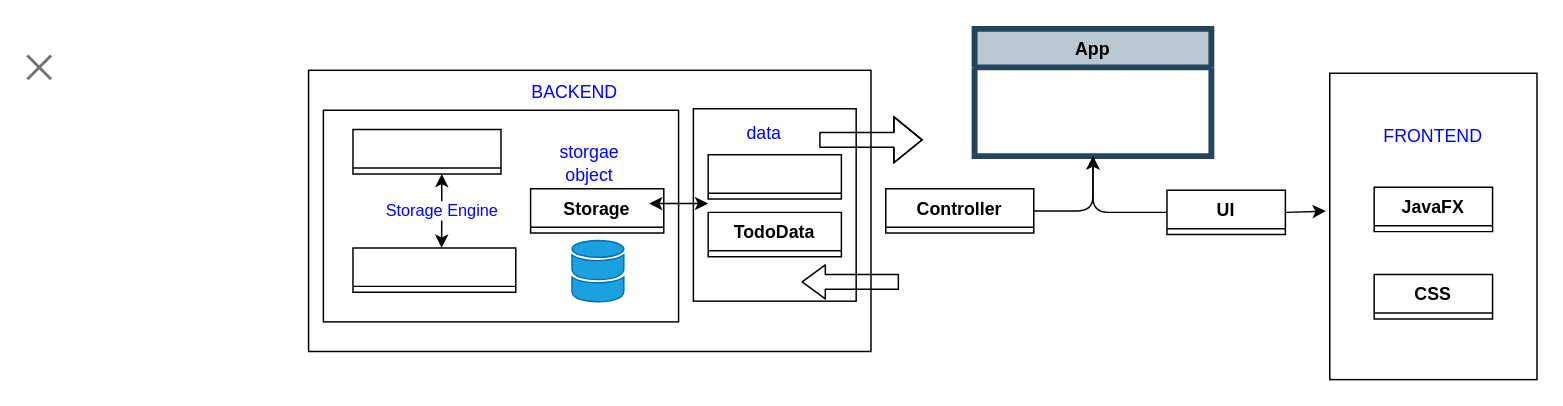
This 1563x406 diagram has some shape labels left out. Each missing label, with the centre of its shape:
"DBStorage" belongs at (x=426, y=151).
"FileStorage" belongs at (x=434, y=269).
"TodoItem" belongs at (x=774, y=176).
